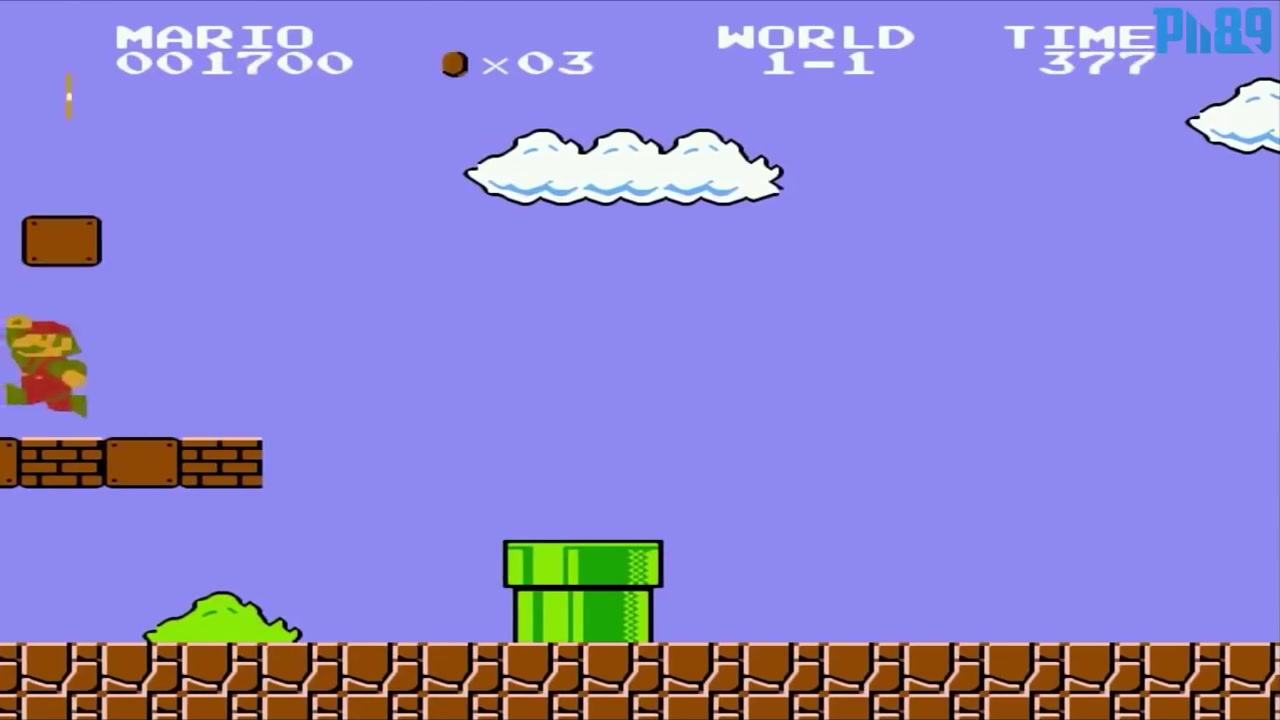mario: (2, 308, 91, 426)
